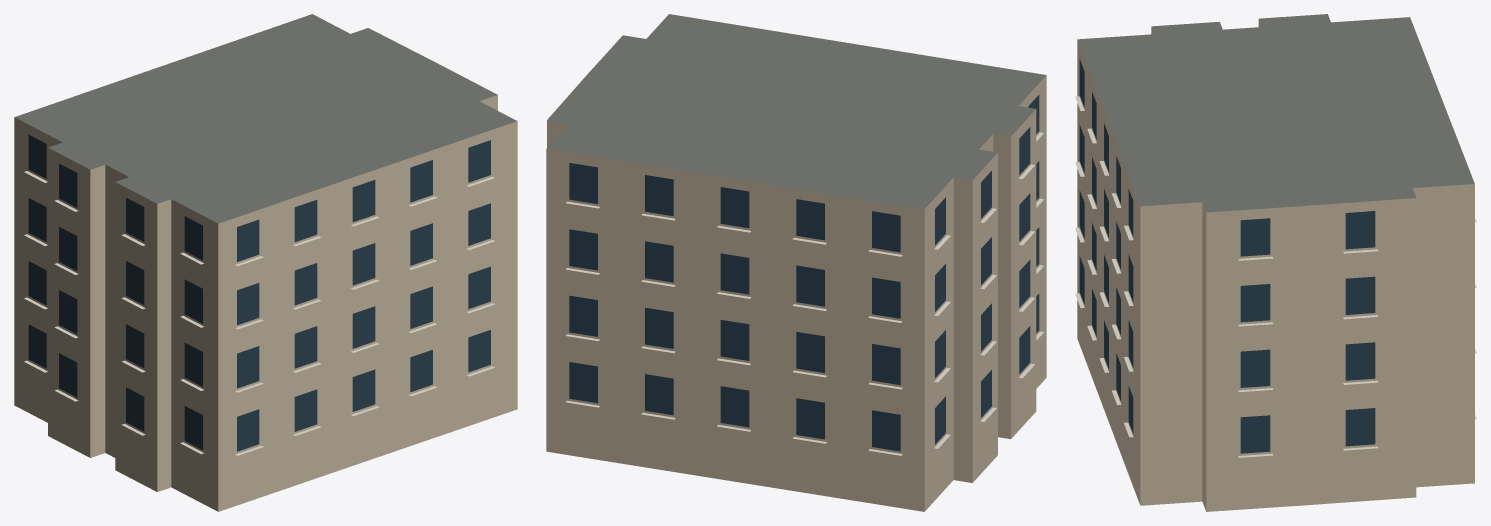
3 renders of one model, left to right at view 1: azimuth 30°, elevation 25°; view 2: azimuth 150°, elevation 25°; view 3: azimuth 270°, elevation 25°, orthographic. The views are drawn at different scales.
Visible parts, largest first — view 1: Footprint 0, Inferred window bays, Window sills; view 2: Footprint 0, Inferred window bays, Window sills; view 3: Footprint 0, Inferred window bays, Window sills.
Part boxes in pixels (left/top/right/bottom): Footprint 0: left=14, top=14, right=517, bottom=511; Inferred window bays: left=28, top=135, right=490, bottom=451; Window sills: left=24, top=171, right=494, bottom=455; Footprint 0: left=546, top=14, right=1046, bottom=511; Inferred window bays: left=569, top=94, right=1039, bottom=451; Window sills: left=566, top=132, right=1043, bottom=455; Footprint 0: left=1077, top=14, right=1474, bottom=511; Inferred window bays: left=1079, top=59, right=1375, bottom=453; Window sills: left=1075, top=96, right=1476, bottom=457.
Bounding box in the file's own units: 19.45 × 13.58 × 16.51.
